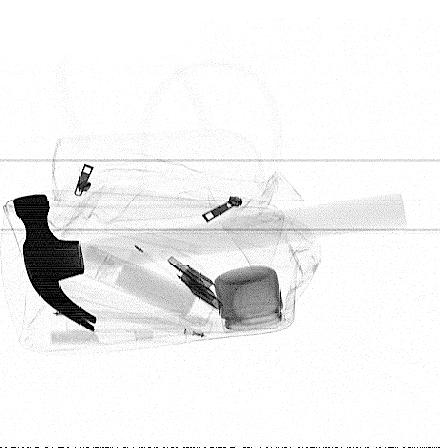Hammer: (12, 192, 408, 334)
